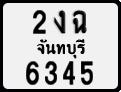letters: (25, 60, 40, 85), (32, 9, 46, 34), (73, 9, 87, 34), (80, 60, 94, 85), (45, 60, 58, 85), (62, 61, 75, 85), (54, 10, 66, 34)
province: (36, 38, 85, 59)
